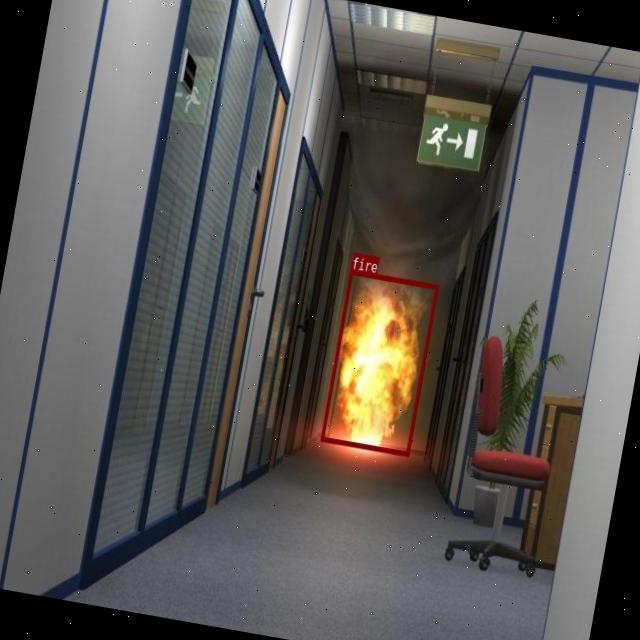fire: (319, 270, 438, 456)
